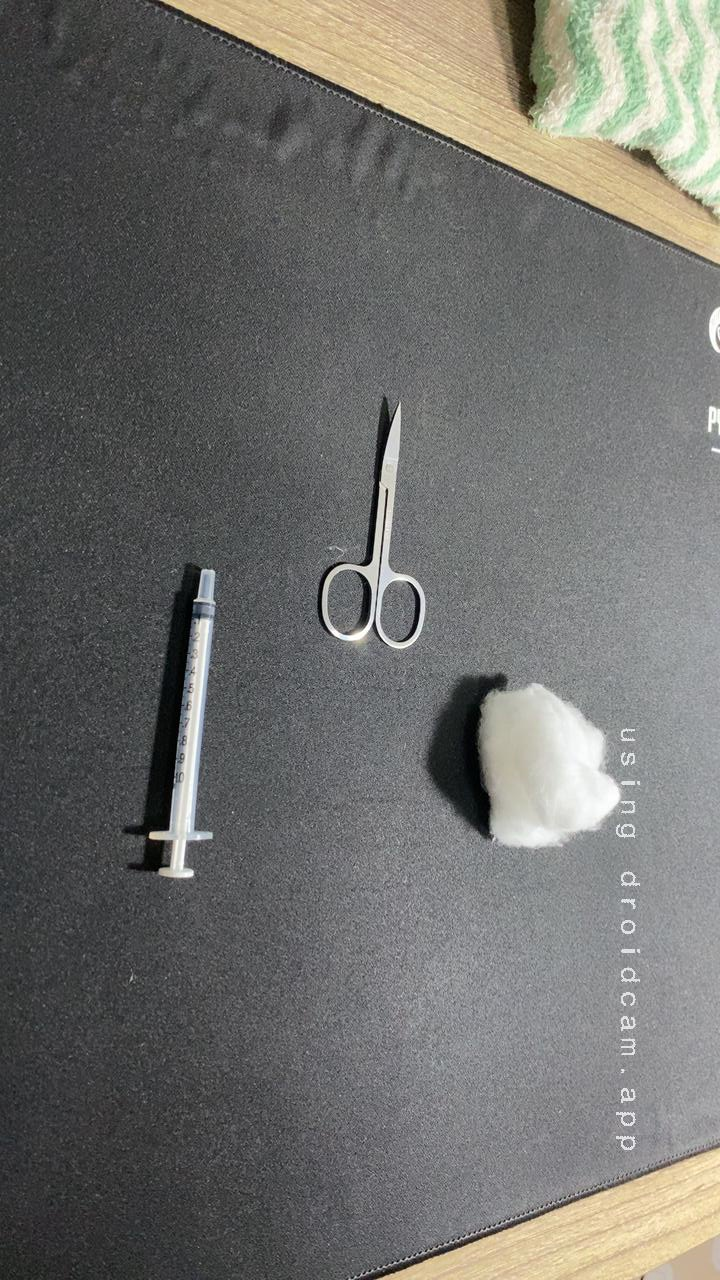cotton: (444, 662, 652, 866)
scissor: (298, 386, 448, 662)
syringe: (105, 541, 288, 892)
